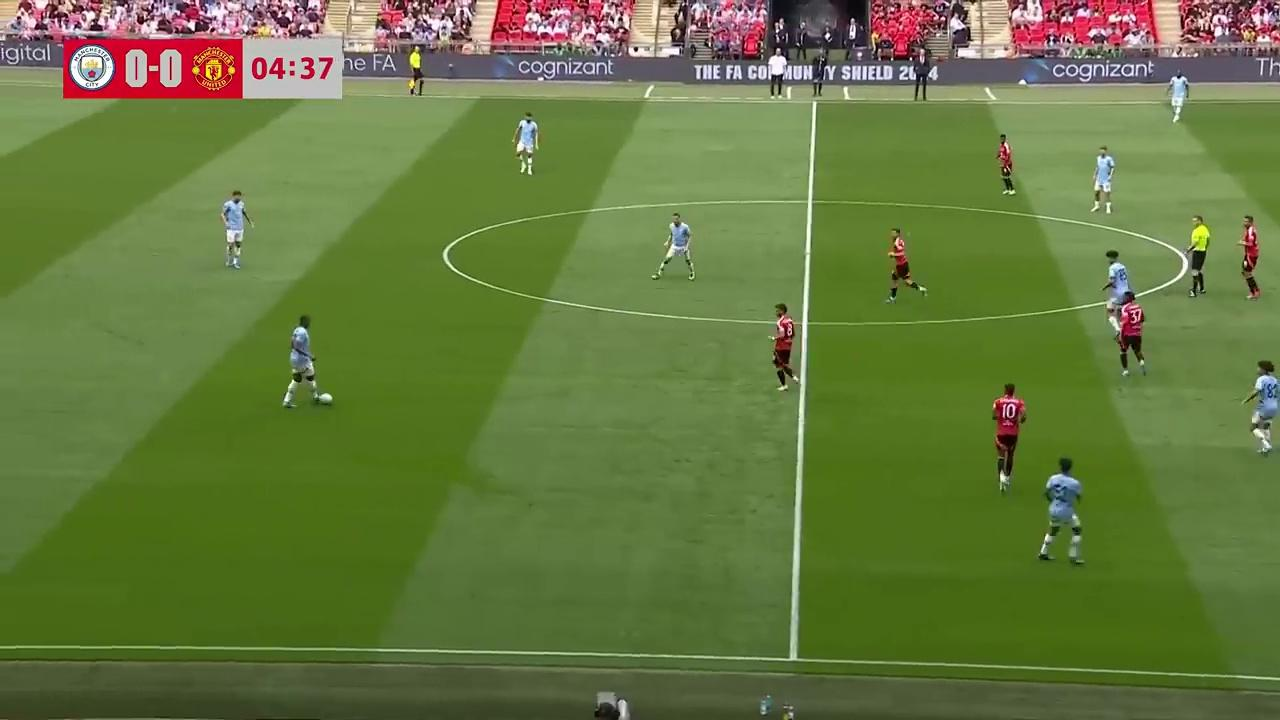ball: (318, 389, 334, 405)
player: (1035, 456, 1085, 564), (281, 315, 333, 409), (992, 383, 1027, 494), (1240, 360, 1280, 455), (884, 227, 926, 304), (652, 214, 695, 282), (1114, 293, 1147, 378), (769, 304, 800, 392), (221, 190, 253, 269), (1101, 250, 1134, 325), (1237, 214, 1261, 300), (1091, 145, 1115, 214), (513, 112, 538, 175), (1166, 70, 1189, 122), (995, 134, 1014, 195)
referee: (1185, 214, 1210, 297), (406, 45, 425, 96)
